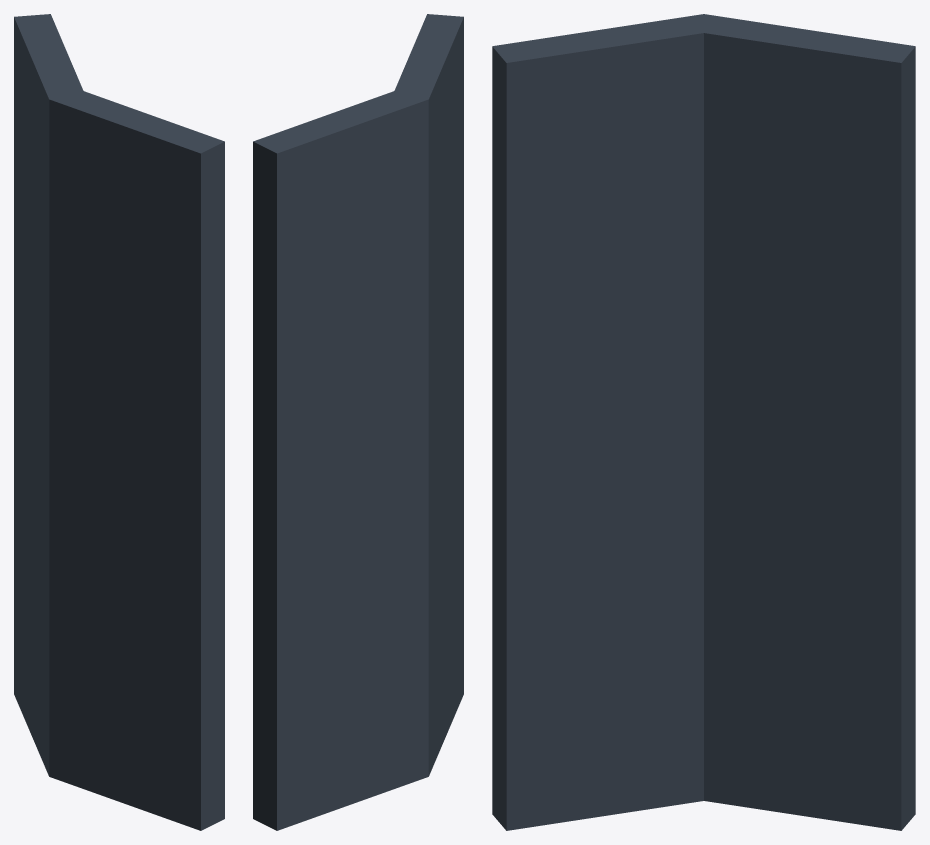
Rendered from Wall20.fbx.
The picture shows the model from 3 angles, left to right: view 1: azimuth 30°, elevation 25°; view 2: azimuth 150°, elevation 25°; view 3: azimuth 270°, elevation 25°; orthographic projection. The views are drawn at different scales.
Visible parts, largest first — view 1: Plane.750; view 2: Plane.750; view 3: Plane.750.
Part boxes in pixels (bbox=[...]): Plane.750: bbox=[14, 14, 224, 830]; Plane.750: bbox=[253, 14, 463, 830]; Plane.750: bbox=[492, 14, 915, 830].
Size of the model in its own units: 2741 by 20000 by 10000.
